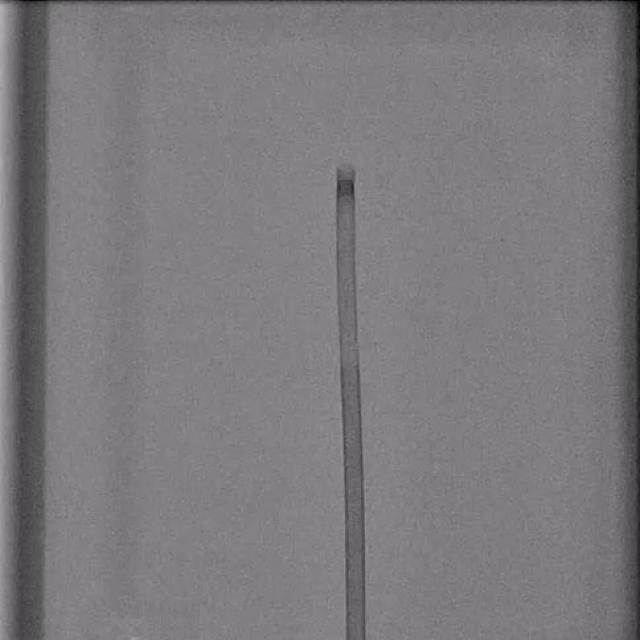bend: (339, 355, 357, 367)
entry: (346, 630, 366, 638)
marker: (336, 180, 356, 198)
tip: (337, 163, 357, 176)
